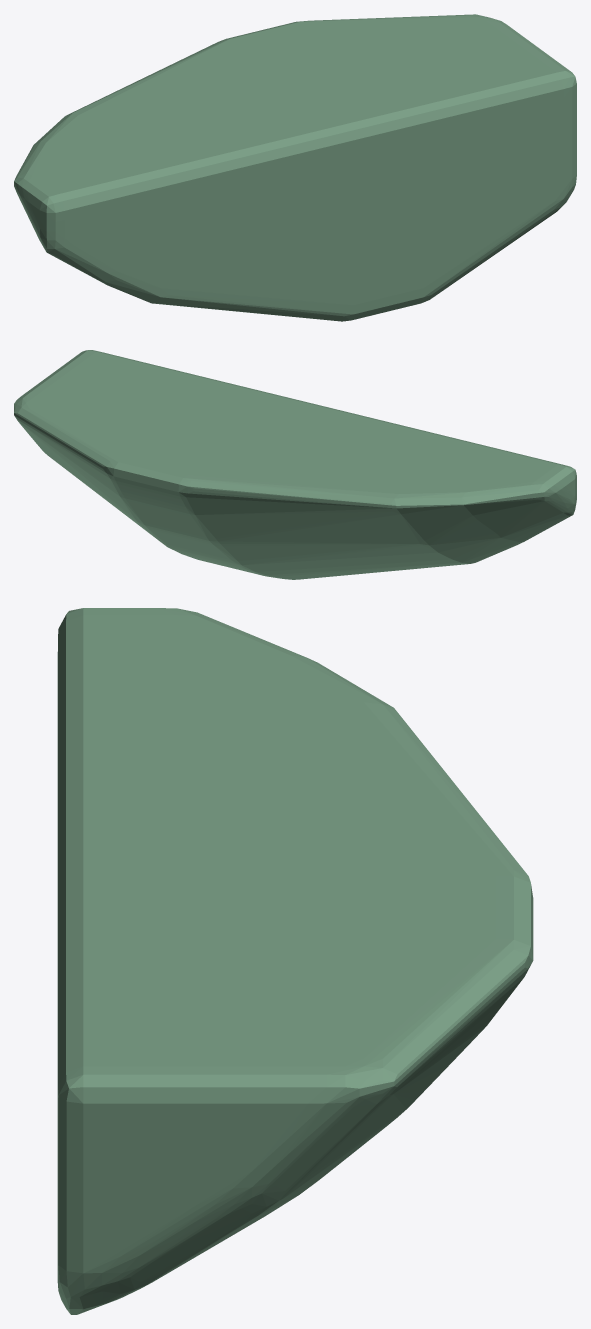
File: right_hip_yaw_link_part_0.obj
3 views of the same model, one above another, from view 1: azimuth 30°, elevation 25°; view 2: azimuth 150°, elevation 25°; view 3: azimuth 270°, elevation 25° (orthographic). The views are drawn at different scales.
Size of the model in its own units: 0.0753 by 0.0261 by 0.0313.
